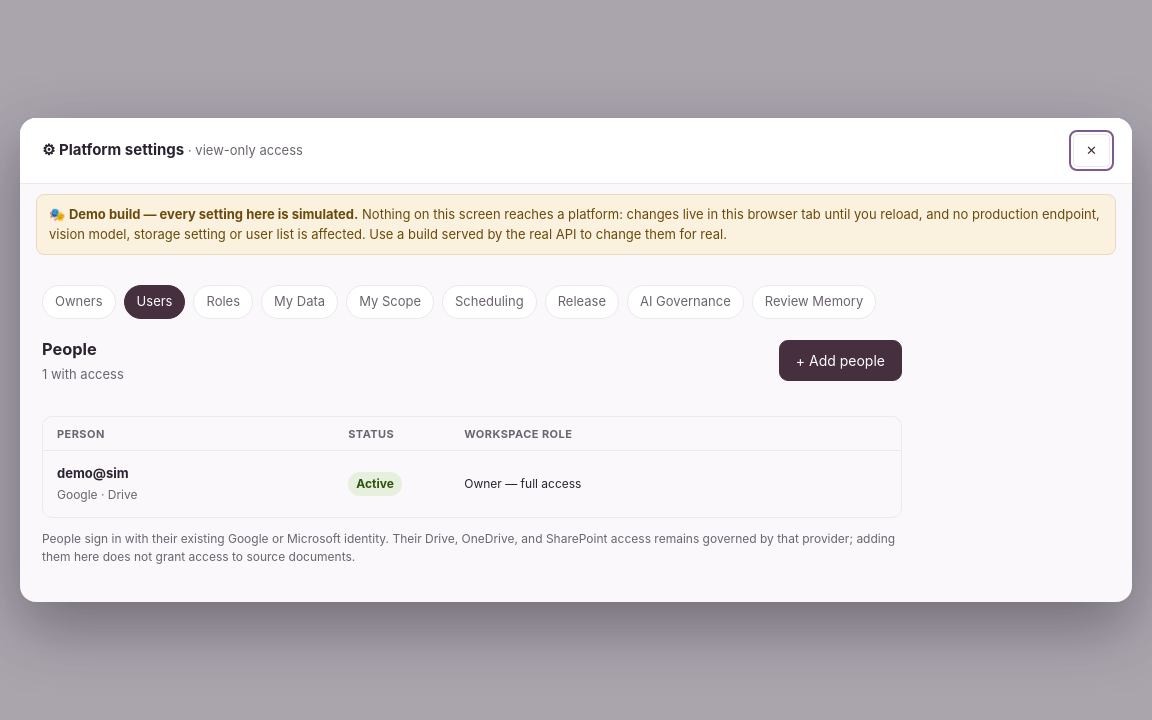
Scenario: the Users tab onboards Microsoft and Google identities in one flow › offers both providers in a unified Add people dialog
Click the button "+ Add people". click: (840, 360)
box: [779,340,902,381]
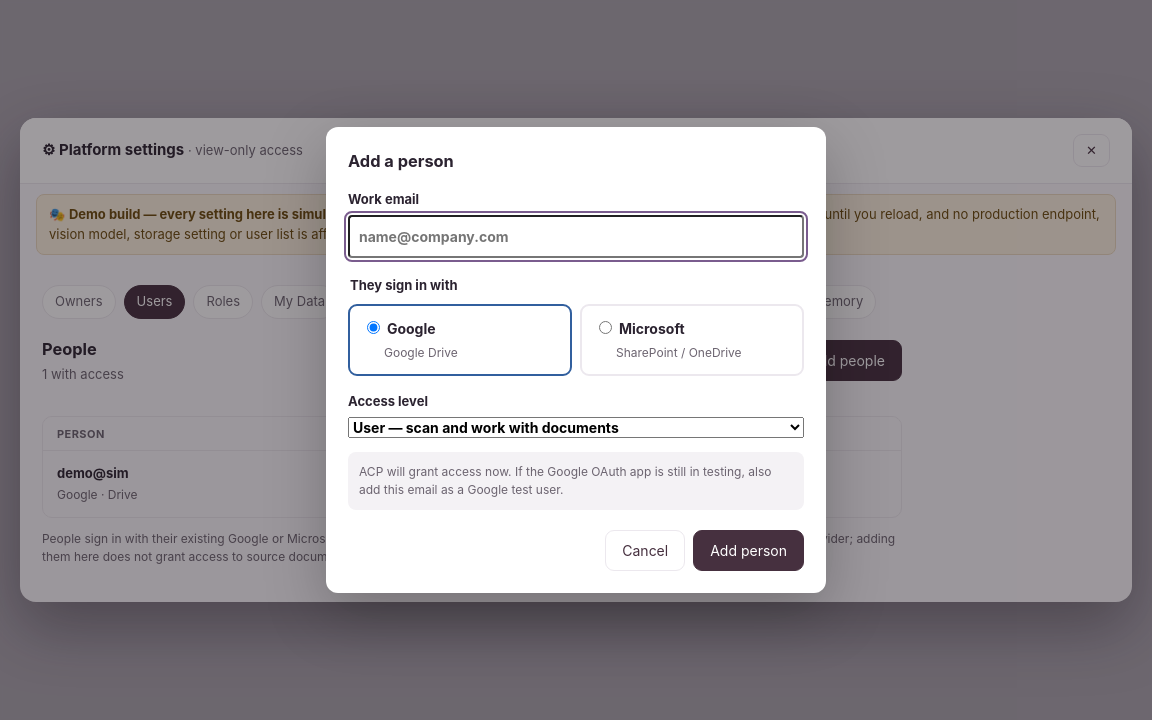
Result: the dialog is shown at [326,127,826,593]
Result: the dialog shows "Microsoft" at [619,320,684,337]
Result: the dialog shows "Google" at [387,320,436,337]
